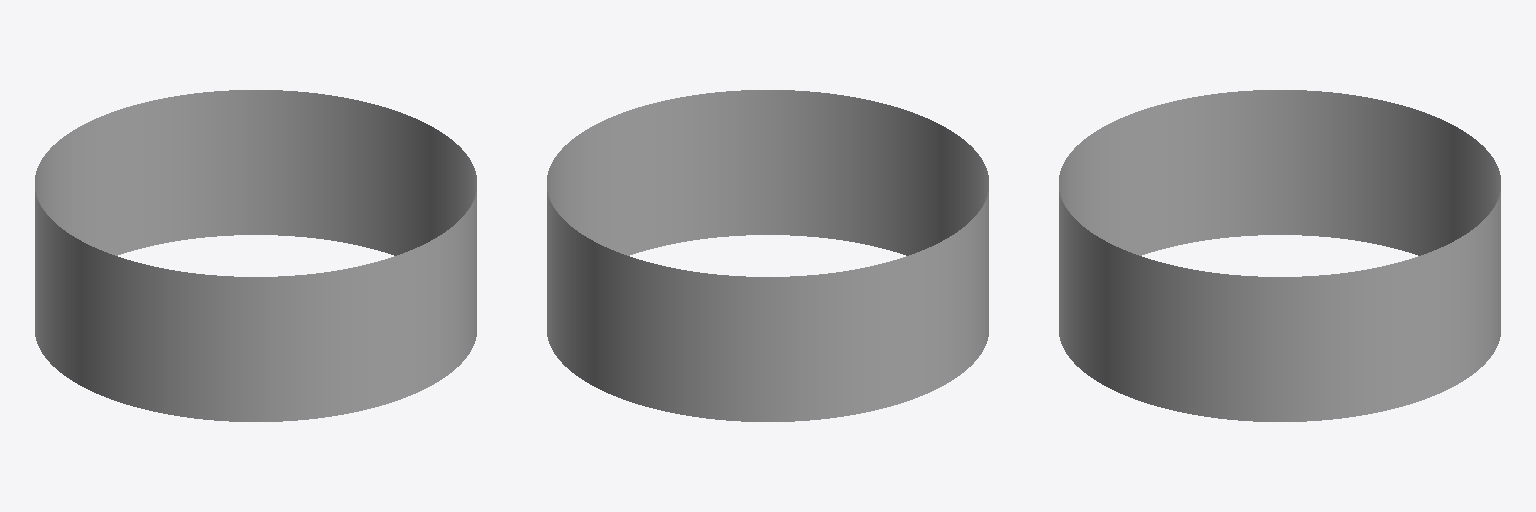
File: wall.obj
3 renders of one model, left to right at view 1: azimuth 30°, elevation 25°; view 2: azimuth 150°, elevation 25°; view 3: azimuth 270°, elevation 25°, orthographic.
Visible parts, largest first — view 1: Circle_Circle.003; view 2: Circle_Circle.003; view 3: Circle_Circle.003.
Boxes of the visible parts, box(x1,y1,x2,y2) form: Circle_Circle.003: box(35, 90, 476, 421); Circle_Circle.003: box(547, 90, 988, 421); Circle_Circle.003: box(1059, 90, 1500, 421).
Size of the model in its own units: 6.43 by 2.33 by 6.43.